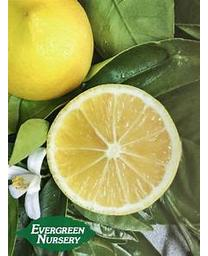lemon: (45, 83, 184, 217), (8, 1, 95, 99)
